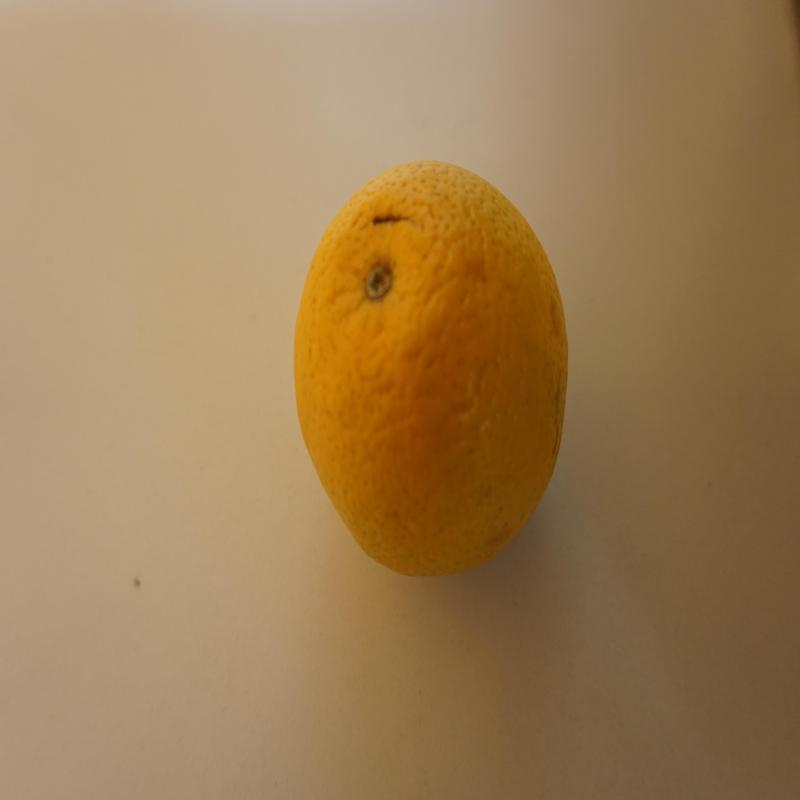Orange: (291, 161, 570, 580)
